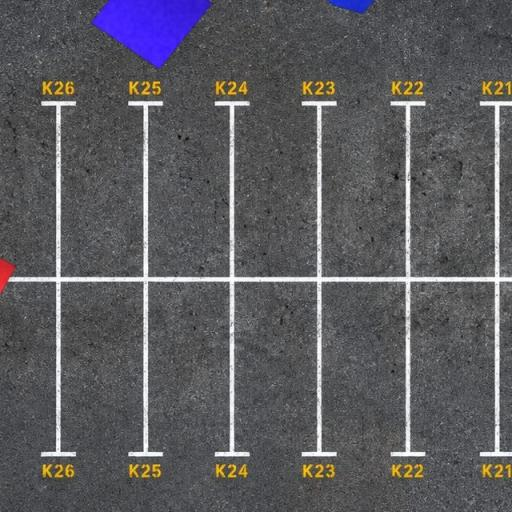BLUE_SQUARE: (90, 0, 214, 70)
RED_SQUARE: (0, 246, 17, 305)
